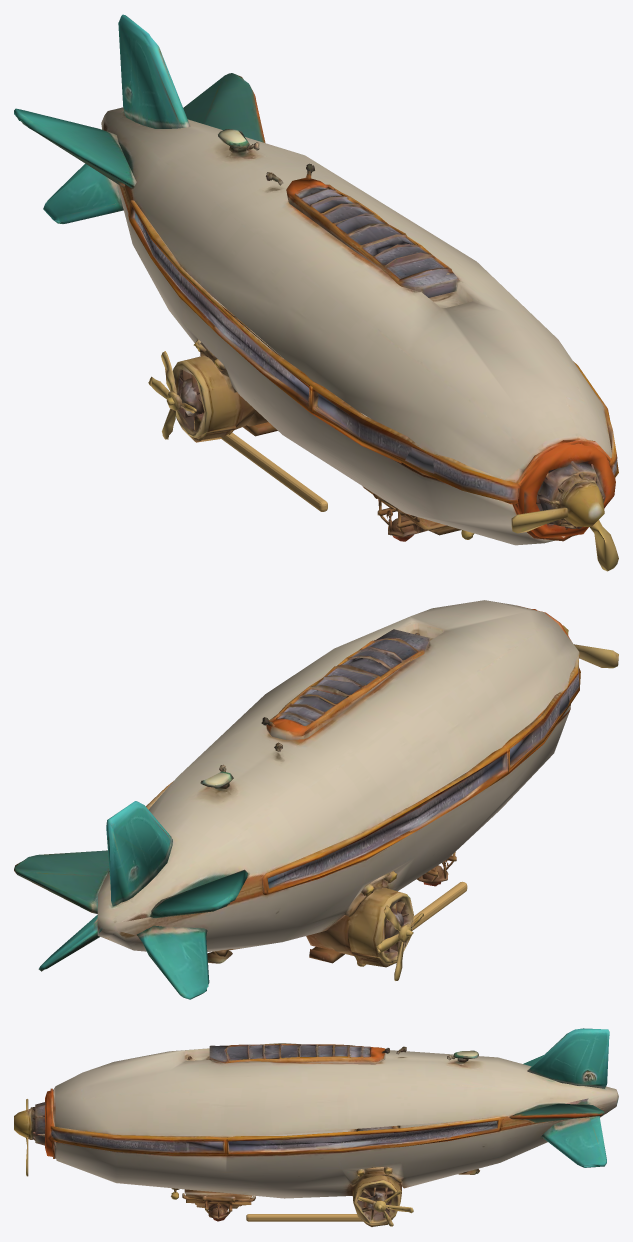
Rendered from sky-airship-low.glb.
The picture shows the model from 3 angles, top to bottom: view 1: azimuth 30°, elevation 25°; view 2: azimuth 150°, elevation 25°; view 3: azimuth 270°, elevation 25°; orthographic projection. The views are drawn at different scales.
Parts seen in each view (by area): view 1: Tripo_tripo_node_abf36a92-2602-4c61-9e1b-9b10dc26e311, Cabin rail; view 2: Tripo_tripo_node_abf36a92-2602-4c61-9e1b-9b10dc26e311, Cabin rail; view 3: Tripo_tripo_node_abf36a92-2602-4c61-9e1b-9b10dc26e311, Cabin rail.
Boxes of the visible parts, bbox=[...] form: Tripo_tripo_node_abf36a92-2602-4c61-9e1b-9b10dc26e311: bbox=[14, 14, 618, 571]; Cabin rail: bbox=[221, 432, 327, 511]; Tripo_tripo_node_abf36a92-2602-4c61-9e1b-9b10dc26e311: bbox=[14, 600, 618, 999]; Cabin rail: bbox=[357, 881, 467, 966]; Tripo_tripo_node_abf36a92-2602-4c61-9e1b-9b10dc26e311: bbox=[14, 1028, 618, 1226]; Cabin rail: bbox=[246, 1214, 362, 1221].
Size of the model in its own units: 0.3229 by 0.3307 by 0.998.
Materials: 2 (1 with a texture image).
